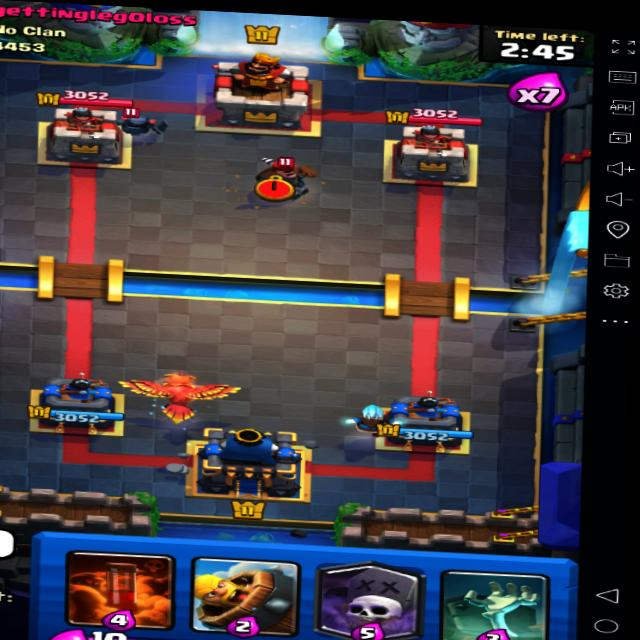hunter: (254, 151, 318, 197)
mini-pekka: (103, 101, 178, 151)
